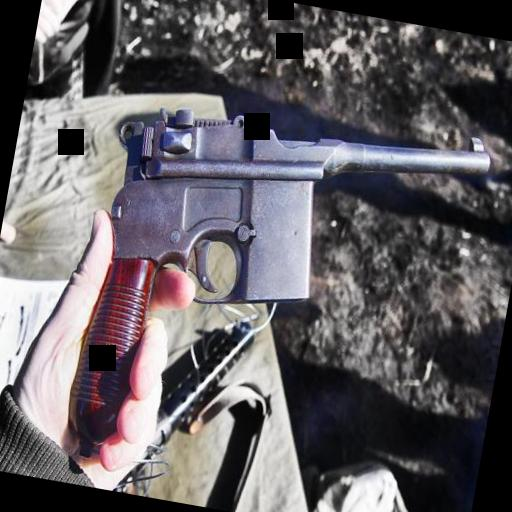Handgun: (47, 67, 494, 512)
